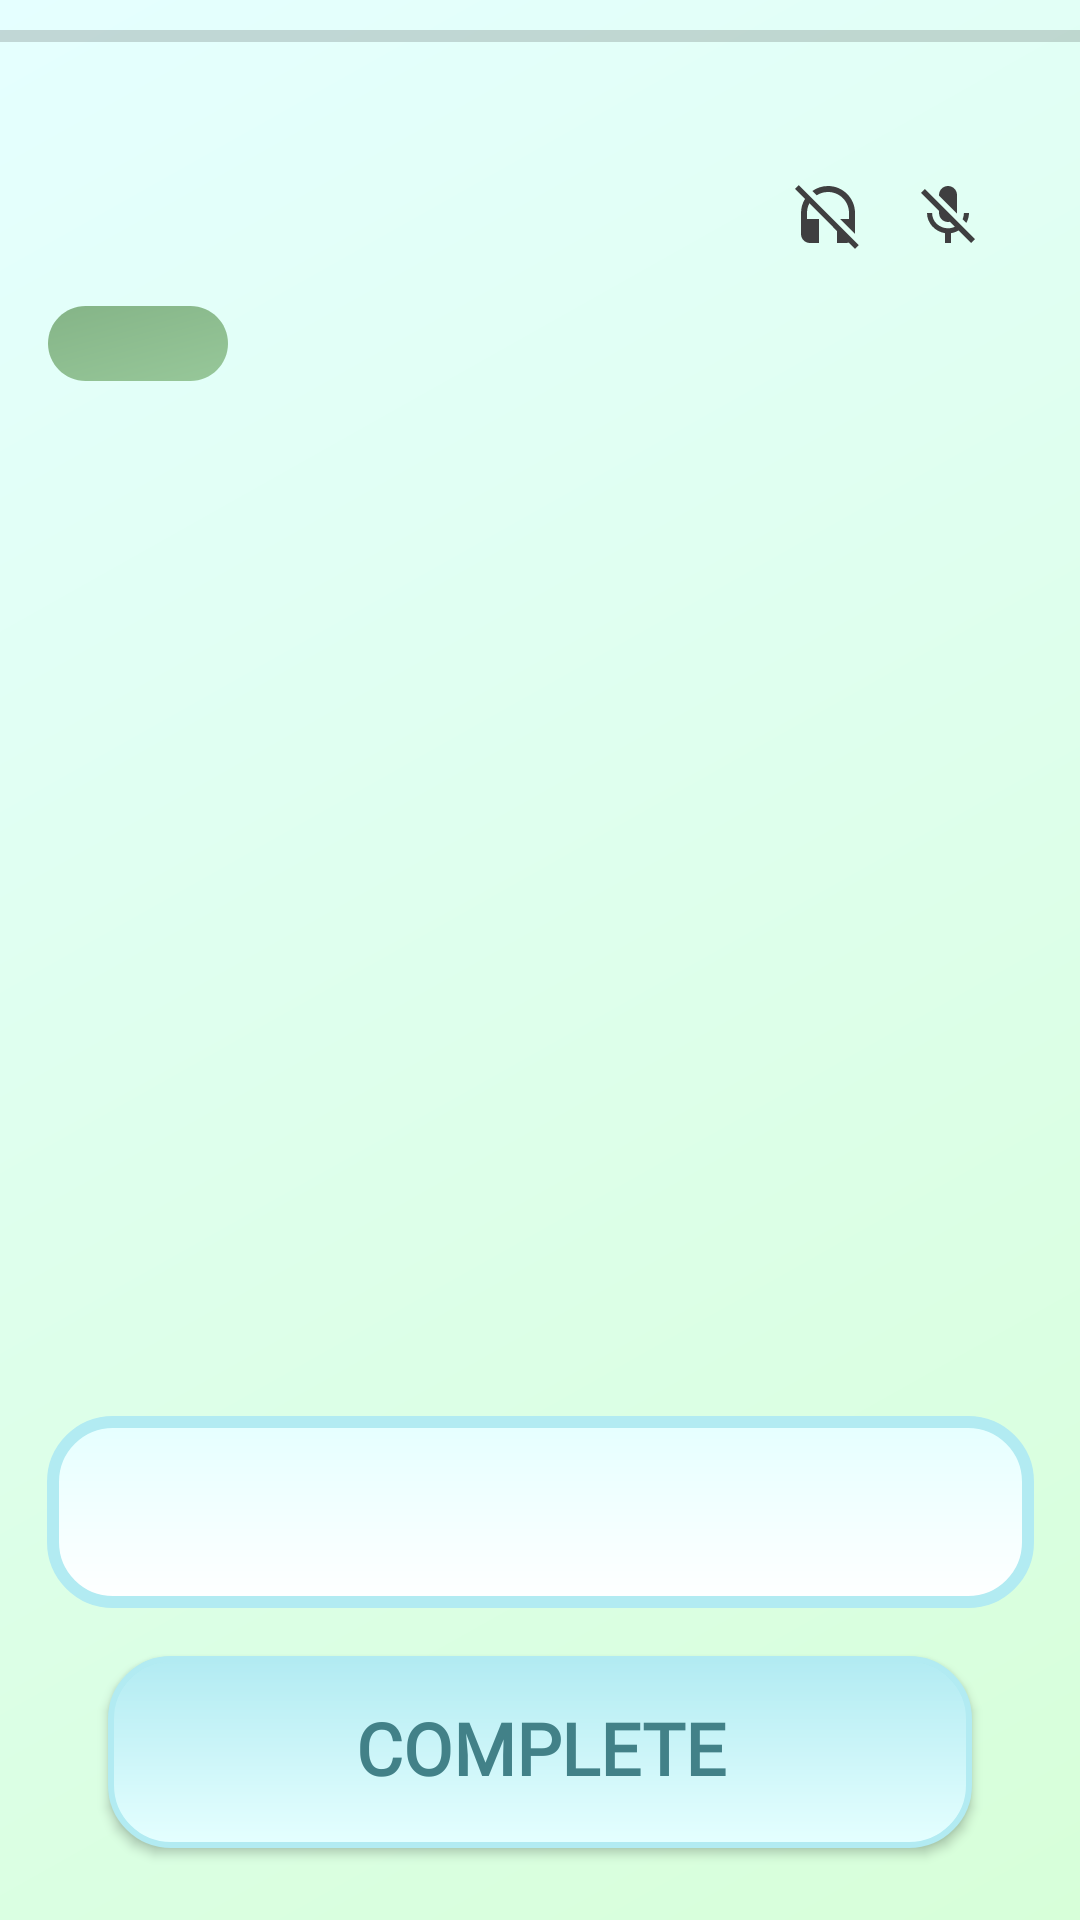

Icon click points for this 1080px×1920px phone screenshot, format point (x, y):
headset off: point (827, 217)
mic off: point (948, 214)
